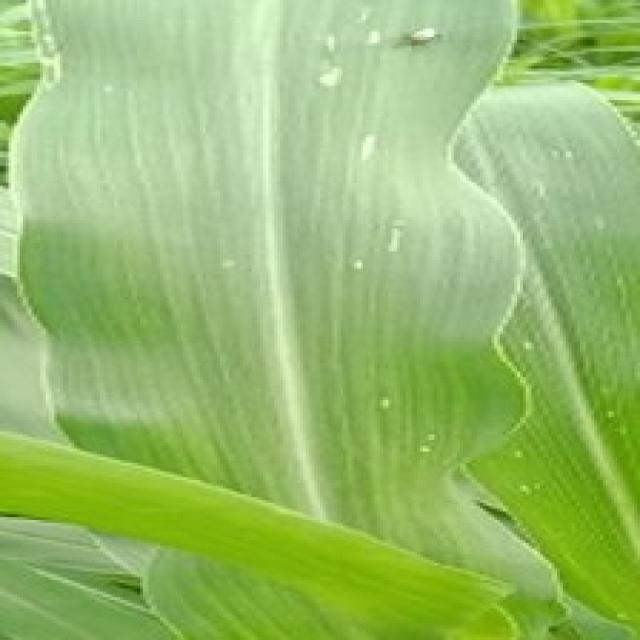Corn: (0, 0, 637, 637), (446, 74, 637, 637)
